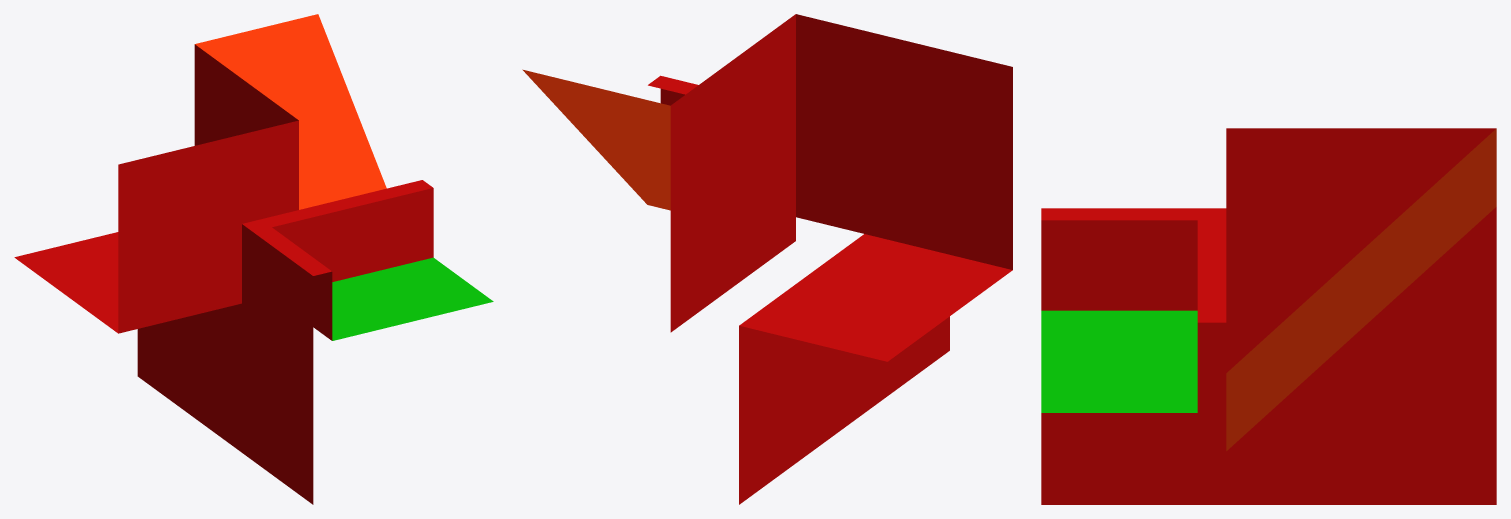
3 renders of one model, left to right at view 1: azimuth 30°, elevation 25°; view 2: azimuth 150°, elevation 25°; view 3: azimuth 270°, elevation 25°, orthographic. The views are drawn at different scales.
Visible parts, largest first — view 1: None_S_W_E_E_E_E_A_E_None; view 2: None_S_W_E_E_E_E_A_E_None; view 3: None_S_W_E_E_E_E_A_E_None.
Part boxes in pixels (x1=…): None_S_W_E_E_E_E_A_E_None: x1=14, y1=14, x2=493, y2=504; None_S_W_E_E_E_E_A_E_None: x1=522, y1=14, x2=1012, y2=504; None_S_W_E_E_E_E_A_E_None: x1=1041, y1=128, x2=1496, y2=504.
Size of the model in its own units: 100 by 100 by 100.
